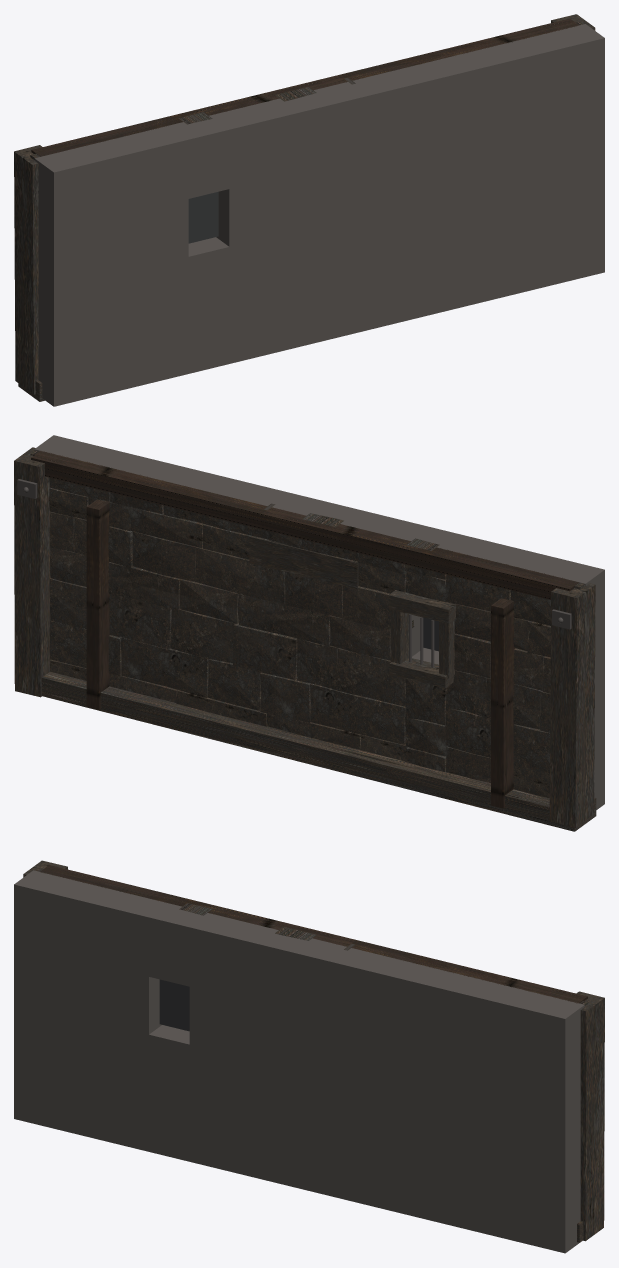
Rendered from wall_rear_preview.glb.
3 views of the same model, one above another, from view 1: azimuth 30°, elevation 25°; view 2: azimuth 150°, elevation 25°; view 3: azimuth 330°, elevation 25° (orthographic).
Visible parts, largest first — view 1: ASSET_REAR_REAR_solid_0_structural, ASSET_REAR_REAR_solid_2_structural, ASSET_REAR_REAR_load_corner_1, ASSET_REAR_REAR_low_1_structural, ASSET_REAR_REAR_wall_plate, ASSET_REAR_REAR_upper_1_structural, ASSET_REAR_REAR_window_0_inner_dark; view 2: ASSET_REAR_REAR_continuous_plinth, ASSET_REAR_REAR_wall_plate, ASSET_REAR_REAR_load_corner_1, ASSET_REAR_REAR_load_corner_-1, ASSET_REAR_REAR_solid_0_structural, ASSET_REAR_REAR_solid_2_structural, ASSET_REAR_REAR_oak_utility_pier_-1, ASSET_REAR_REAR_oak_utility_pier_1, ASSET_REAR_REAR_solid_0_stone_1_4, ASSET_REAR_REAR_solid_0_stone_1_1, ASSET_REAR_REAR_solid_0_stone_4_3, ASSET_REAR_REAR_dark_smoke_stone (+55 smaller); view 3: ASSET_REAR_REAR_solid_0_structural, ASSET_REAR_REAR_solid_2_structural, ASSET_REAR_REAR_load_corner_-1, ASSET_REAR_REAR_low_1_structural, ASSET_REAR_REAR_wall_plate, ASSET_REAR_REAR_upper_1_structural, ASSET_REAR_REAR_window_0_inner_dark.
Boxes of the visible parts, x1,y1,x2,y2 form: ASSET_REAR_REAR_solid_0_structural: (210, 24, 604, 363); ASSET_REAR_REAR_solid_2_structural: (34, 125, 188, 406); ASSET_REAR_REAR_load_corner_1: (14, 145, 42, 394); ASSET_REAR_REAR_low_1_structural: (188, 237, 229, 373); ASSET_REAR_REAR_wall_plate: (31, 18, 578, 156); ASSET_REAR_REAR_upper_1_structural: (169, 115, 229, 198); ASSET_REAR_REAR_window_0_inner_dark: (188, 191, 218, 243); ASSET_REAR_REAR_continuous_plinth: (41, 672, 596, 831); ASSET_REAR_REAR_wall_plate: (31, 451, 578, 599); ASSET_REAR_REAR_load_corner_1: (549, 583, 595, 827); ASSET_REAR_REAR_load_corner_-1: (14, 447, 50, 697); ASSET_REAR_REAR_solid_0_structural: (34, 435, 428, 656); ASSET_REAR_REAR_solid_2_structural: (451, 537, 604, 809); ASSET_REAR_REAR_oak_utility_pier_-1: (86, 499, 109, 709); ASSET_REAR_REAR_oak_utility_pier_1: (491, 598, 515, 808); ASSET_REAR_REAR_solid_0_stone_1_4: (310, 683, 405, 744); ASSET_REAR_REAR_solid_0_stone_1_1: (120, 637, 208, 697); ASSET_REAR_REAR_solid_0_stone_4_3: (196, 547, 285, 603); ASSET_REAR_REAR_dark_smoke_stone: (249, 536, 358, 589); ASSET_REAR_REAR_solid_0_structural: (189, 913, 584, 1253); ASSET_REAR_REAR_solid_2_structural: (14, 870, 167, 1151); ASSET_REAR_REAR_load_corner_-1: (576, 991, 604, 1241); ASSET_REAR_REAR_low_1_structural: (149, 1025, 189, 1161); ASSET_REAR_REAR_wall_plate: (40, 865, 587, 1003); ASSET_REAR_REAR_upper_1_structural: (149, 903, 208, 986); ASSET_REAR_REAR_window_0_inner_dark: (159, 979, 189, 1031).
Size of the model in its own units: 8.04 by 3.24 by 0.926.
Materials: 7 (4 with a texture image).
